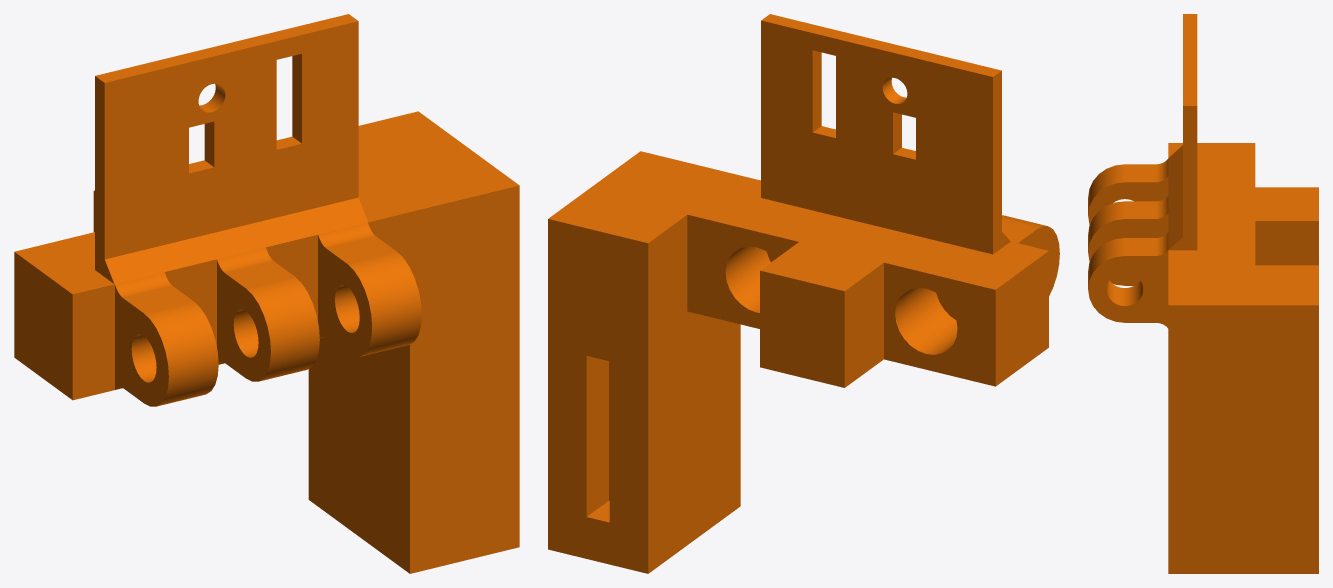
Rendered from Beam_Hinge.glb.
3 views of the same model, side by side, from view 1: azimuth 30°, elevation 25°; view 2: azimuth 150°, elevation 25°; view 3: azimuth 270°, elevation 25° (orthographic). The views are drawn at different scales.
Visible parts, largest first — view 1: Beam Hinge; view 2: Beam Hinge; view 3: Beam Hinge.
Part boxes in pixels (box(x1,y1,x2,y2)): Beam Hinge: box(14, 14, 519, 573); Beam Hinge: box(548, 14, 1059, 573); Beam Hinge: box(1088, 14, 1318, 573).
Bounding box in the file's own units: 0.053 × 0.063 × 0.0319.
